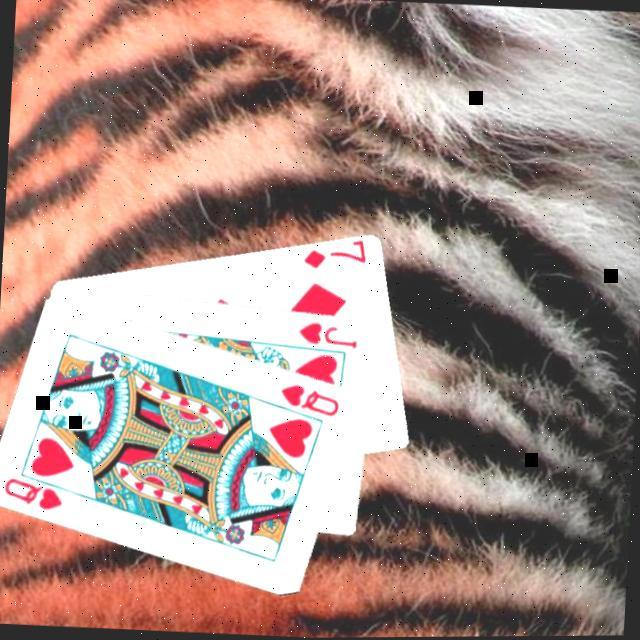7D: (298, 237, 371, 275)
JH: (294, 319, 360, 352)
QH: (0, 468, 78, 516), (276, 381, 344, 420)
